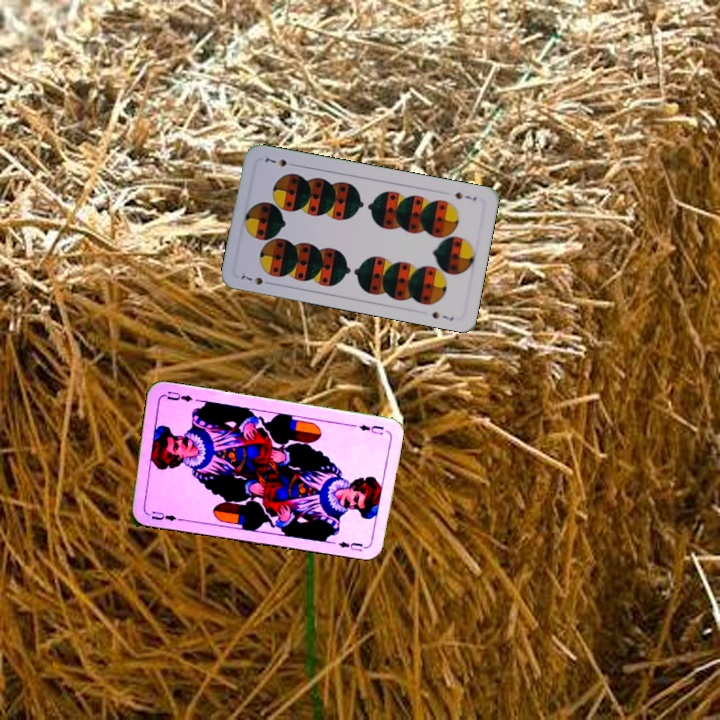EU: (147, 507, 184, 523), (355, 420, 387, 436)
S7: (237, 268, 275, 288), (451, 188, 479, 203)
